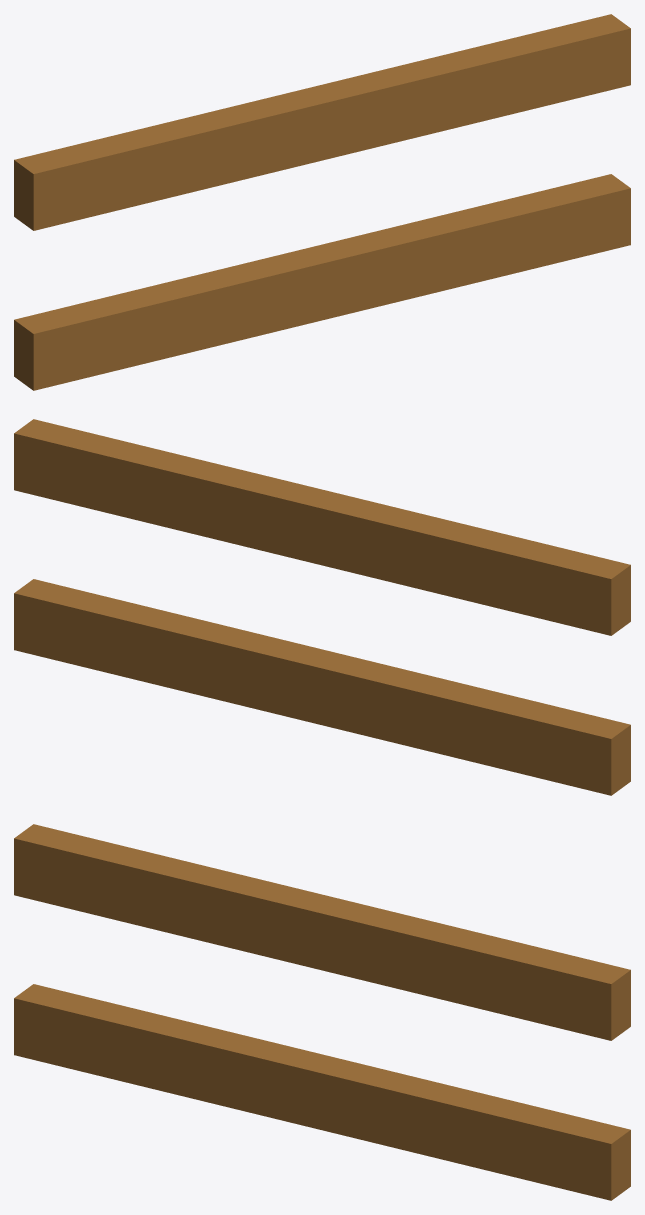
File: Fence_Rails_2m.fbx
3 renders of one model, top to bottom at view 1: azimuth 30°, elevation 25°; view 2: azimuth 150°, elevation 25°; view 3: azimuth 330°, elevation 25°, orthographic.
Visible parts, largest first — view 1: Fence_Rails_2m; view 2: Fence_Rails_2m; view 3: Fence_Rails_2m.
Boxes of the visible parts, left/top/right/bottom form: Fence_Rails_2m: left=14, top=14, right=630, bottom=390; Fence_Rails_2m: left=14, top=419, right=630, bottom=795; Fence_Rails_2m: left=14, top=824, right=630, bottom=1200.
Size of the model in its own units: 1.76 by 0.61 by 0.1.
